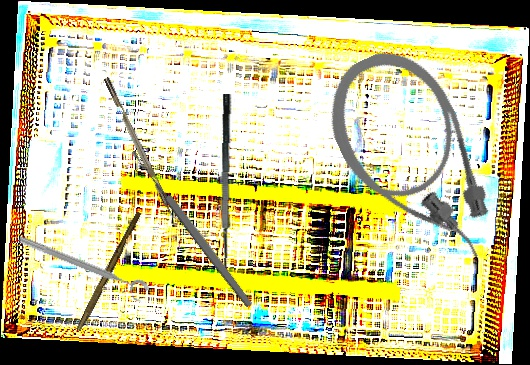Cannula: (309, 34, 515, 290)
Chopper: (103, 73, 184, 226)
Fixation Ring: (13, 231, 152, 306)
Scalpel Handle: (76, 210, 142, 333)
Spatula Surgical: (214, 93, 248, 279)
Surgical Spoon: (129, 148, 254, 309)
